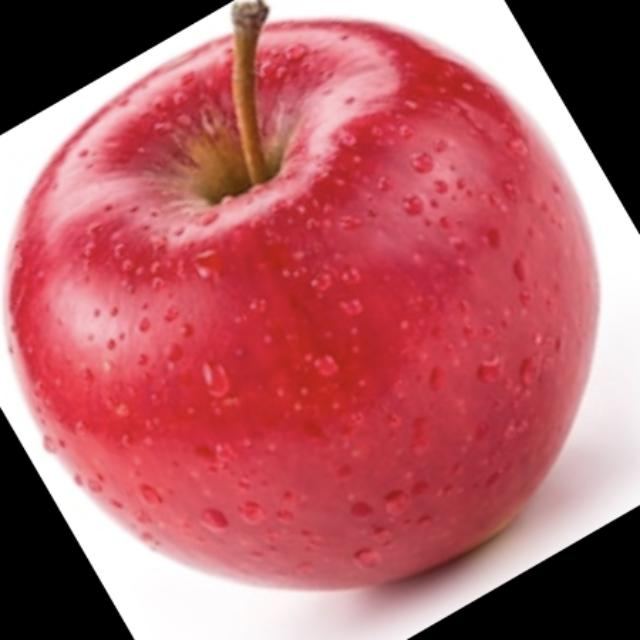Apel Segar: (13, 18, 597, 590)
